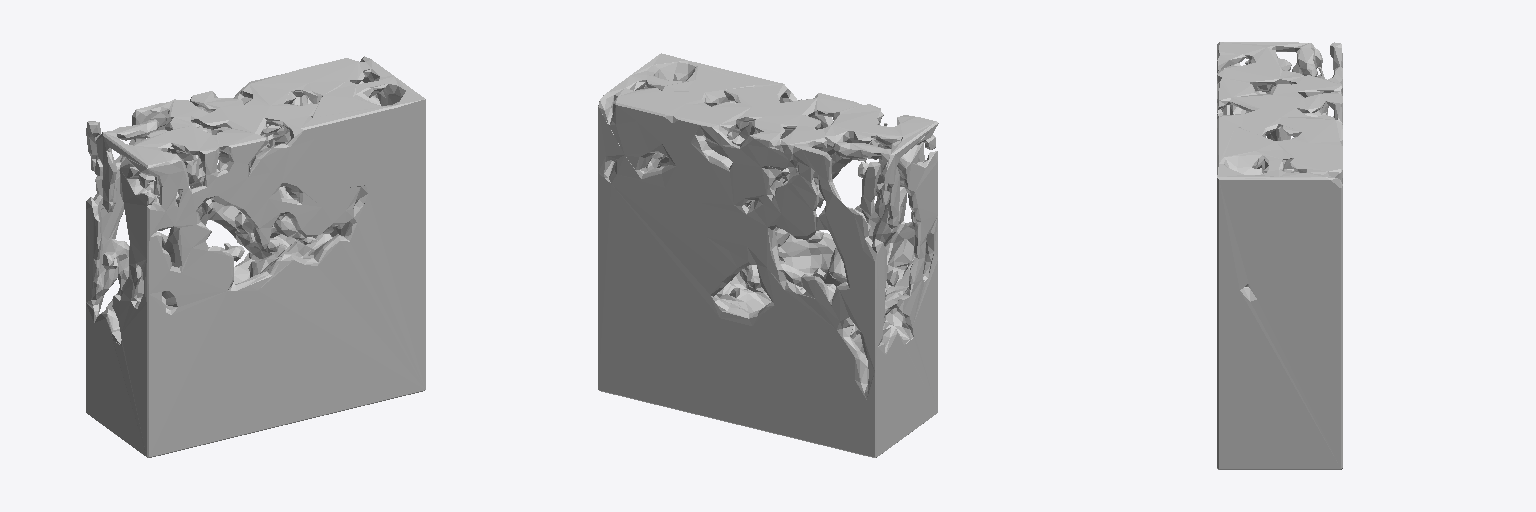
The picture shows the model from 3 angles: view 1: azimuth 30°, elevation 25°; view 2: azimuth 150°, elevation 25°; view 3: azimuth 270°, elevation 25°; orthographic projection.
Parts seen in each view (by area): view 1: Liquid_Domain; view 2: Liquid_Domain; view 3: Liquid_Domain.
Part boxes in pixels (x1,y1,x2,y2): Liquid_Domain: (86,56,425,457); Liquid_Domain: (598,53,938,457); Liquid_Domain: (1217,42,1342,469).
Bounding box in the file's own units: 884 × 885 × 344.